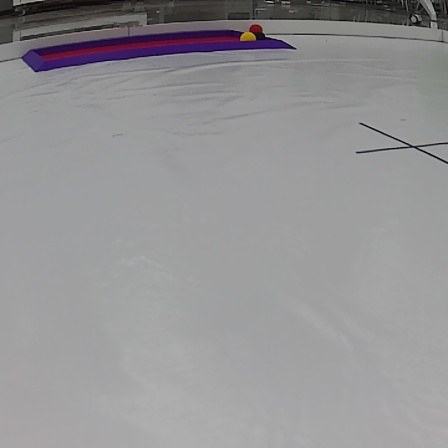black: (254, 31, 268, 40)
red: (248, 20, 264, 31)
red_aim: (13, 27, 299, 71)
yellow: (237, 31, 257, 43)
